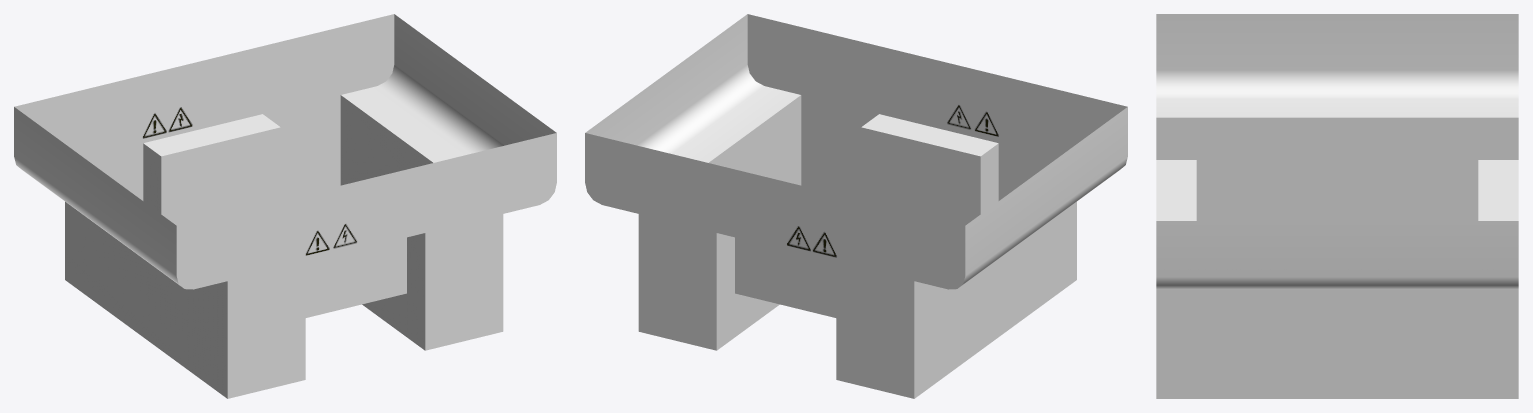
The model's file is 电泳槽.glb.
3 views of the same model, side by side, from view 1: azimuth 30°, elevation 25°; view 2: azimuth 150°, elevation 25°; view 3: azimuth 270°, elevation 25° (orthographic). The views are drawn at different scales.
Visible parts, largest first — view 1: 电泳槽; view 2: 电泳槽; view 3: 电泳槽.
Part boxes in pixels (box(x1,y1,x2,y2)): 电泳槽: box(14, 14, 556, 398); 电泳槽: box(585, 14, 1127, 398); 电泳槽: box(1156, 14, 1518, 398).
Bounding box in the file's own units: 0.9212 × 0.43 × 0.6817.
Materials: 1 (1 with a texture image).
